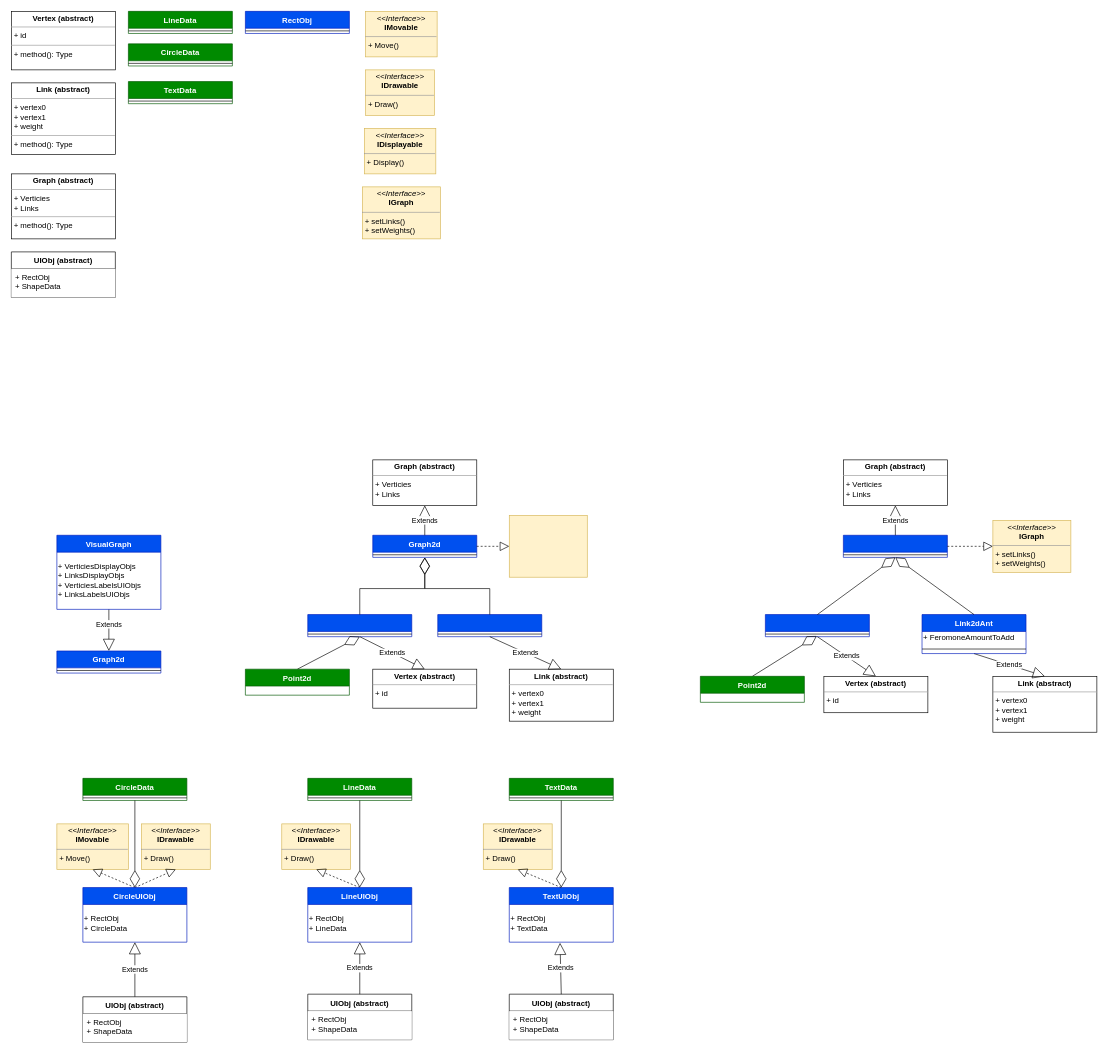
Some shapes in this 1108 by 1056 pixel diagram are drawn without their labels. Each missing label, with the centre of its shape:
<<Interface>> IGraph + createVerticies() + setLinks() + setWeights(): pixel 548 546
AntGraph: pixel 895 546
Link2d: pixel 489 625
Vertex2d: pixel 359 625
Vertex2dAnt: pixel 817 625
